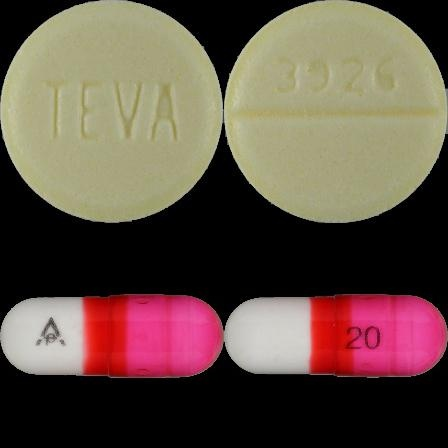50436-3592: (0, 0, 224, 224)
